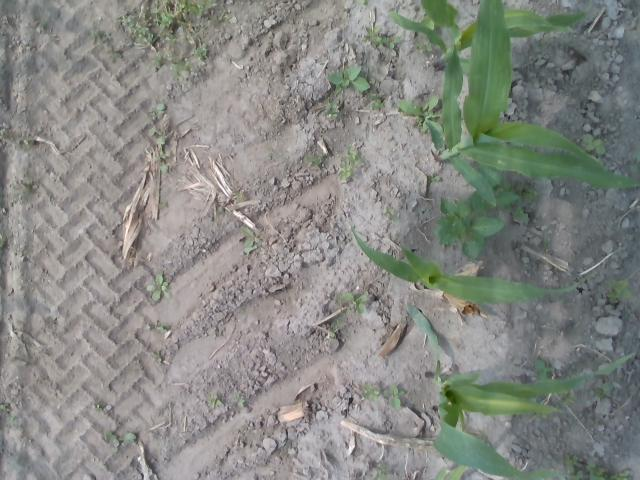Maize: (422, 0, 640, 205), (404, 295, 638, 480), (350, 225, 595, 307), (384, 0, 588, 74), (430, 440, 484, 480)
Weeds: (434, 184, 528, 261), (397, 94, 444, 137), (138, 0, 178, 44), (152, 47, 194, 80), (360, 26, 402, 58), (327, 64, 369, 94), (564, 452, 608, 480), (119, 14, 153, 44), (336, 146, 362, 180), (334, 290, 367, 314), (174, 0, 214, 19), (604, 277, 633, 303), (146, 273, 171, 301), (581, 130, 607, 156), (240, 226, 261, 254), (105, 429, 136, 447), (383, 384, 403, 409), (534, 358, 554, 380), (362, 92, 385, 109), (361, 382, 380, 402), (322, 101, 342, 119), (155, 150, 170, 174), (556, 389, 576, 407), (596, 382, 614, 402), (412, 38, 435, 53), (522, 184, 540, 202), (212, 12, 235, 26), (16, 135, 36, 151), (148, 127, 166, 144), (306, 152, 324, 168), (148, 103, 166, 118), (629, 149, 640, 173), (192, 44, 208, 60), (384, 205, 399, 222), (374, 463, 389, 480), (205, 394, 223, 408), (610, 469, 632, 480), (233, 392, 246, 408), (330, 318, 340, 338), (109, 50, 122, 64), (534, 410, 550, 420), (427, 172, 441, 182), (92, 30, 106, 40), (35, 21, 46, 32), (8, 415, 20, 425), (540, 238, 550, 250), (154, 325, 168, 333), (236, 192, 246, 200), (153, 354, 162, 362), (25, 179, 33, 188), (0, 233, 5, 247), (358, 0, 369, 6), (0, 404, 6, 410)
